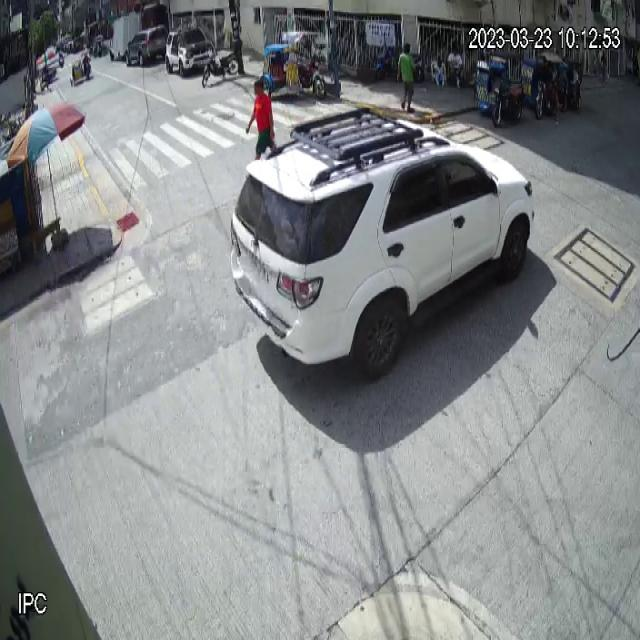Car: (228, 101, 534, 379)
Tricycle: (260, 30, 328, 100), (476, 49, 526, 128)
